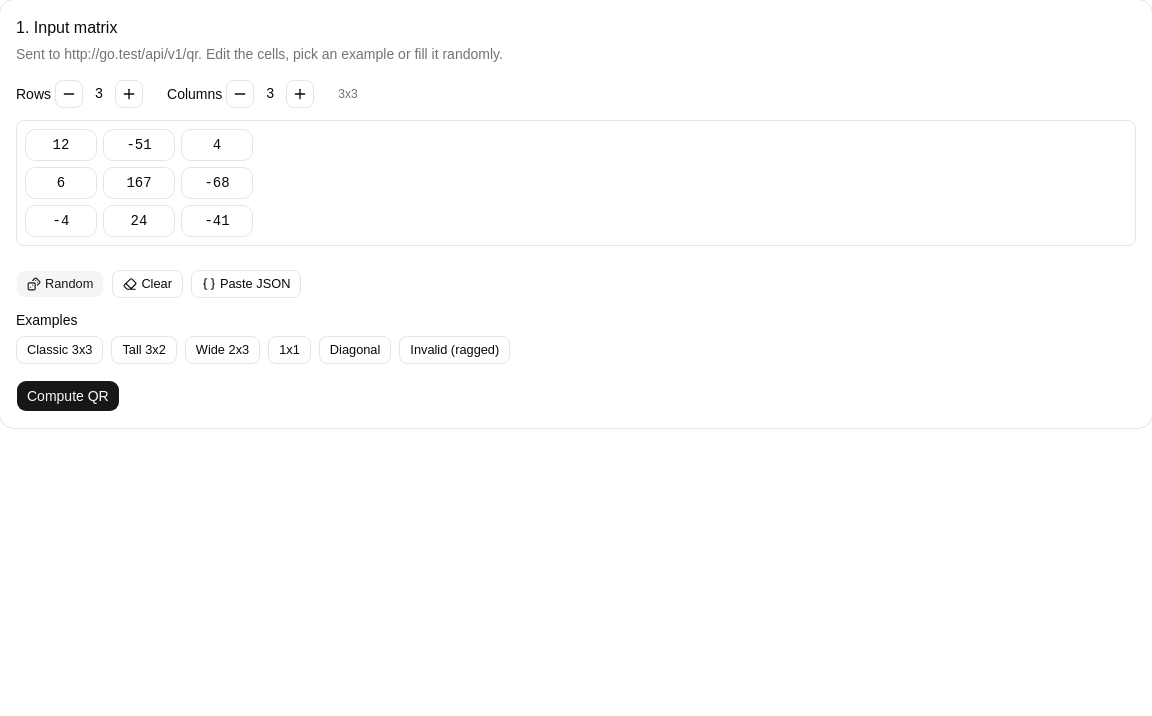
QrPanel › renders matrices and statistics from the API response
Click the button "Compute QR".
click(68, 396)  # box [16,380,120,412]
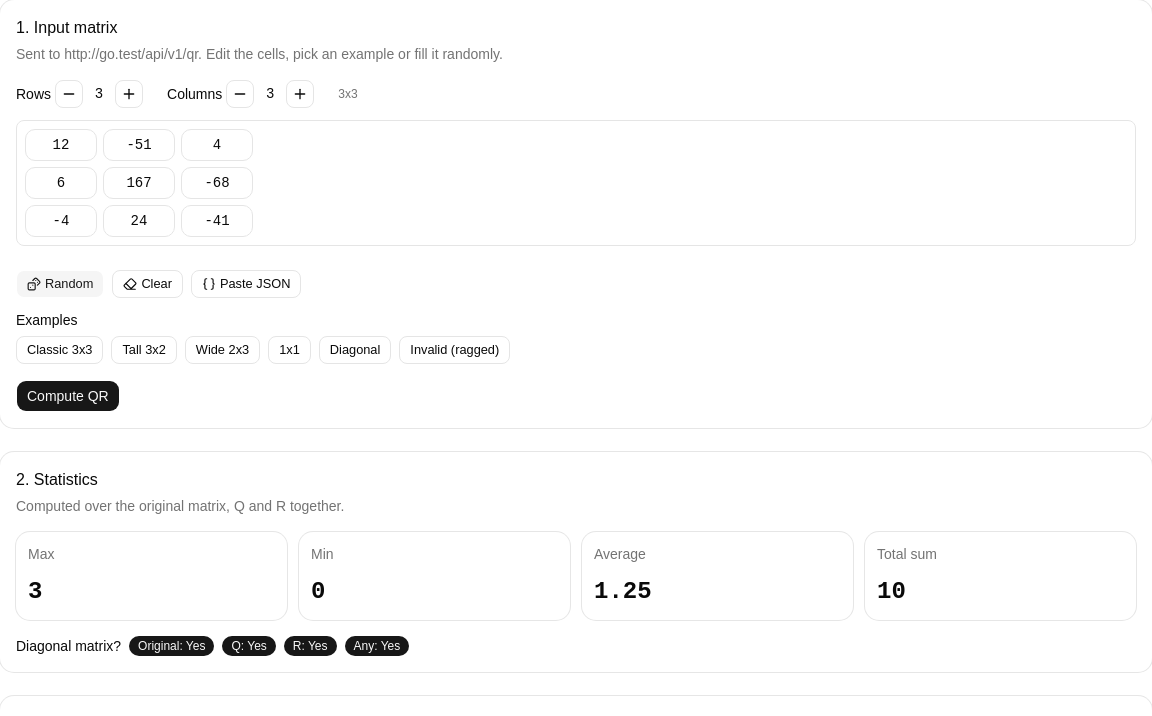
Expected: the text "Average" is shown, [594,546,646,562]
Expected: the text "1.25" is shown, [594,578,652,605]
Expected: the text "Any: Yes" is shown, [344,636,409,656]
